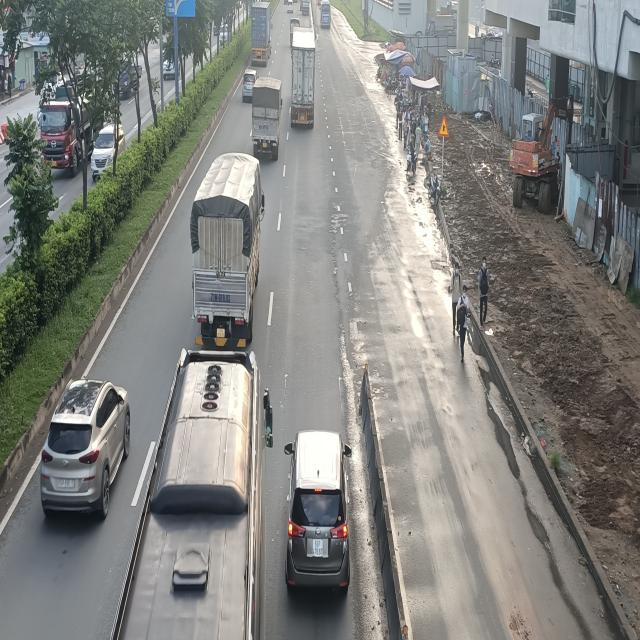car: (39, 377, 131, 517), (288, 430, 354, 595)
coach: (112, 346, 271, 640)
container: (290, 28, 316, 129), (252, 0, 273, 62)
truck: (190, 154, 265, 352), (253, 76, 285, 160)
